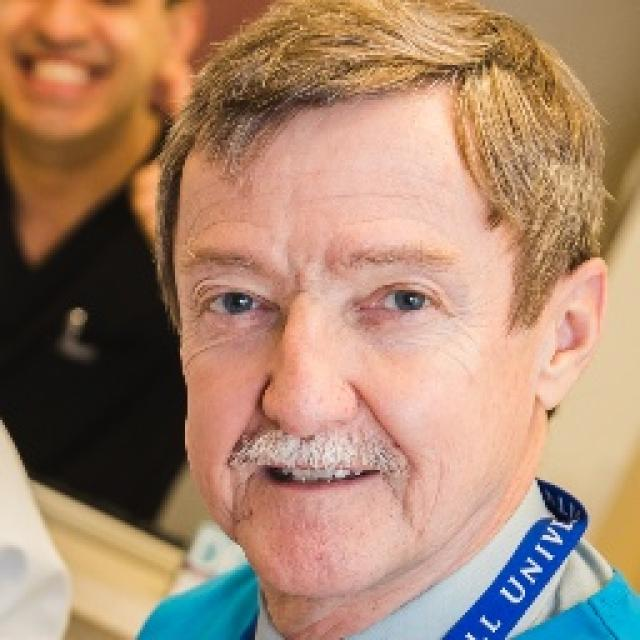earlobe: (537, 370, 564, 410)
eye: (361, 279, 444, 318), (198, 286, 272, 318)
nose: (256, 412, 362, 476)
wholeear: (536, 259, 609, 411)
